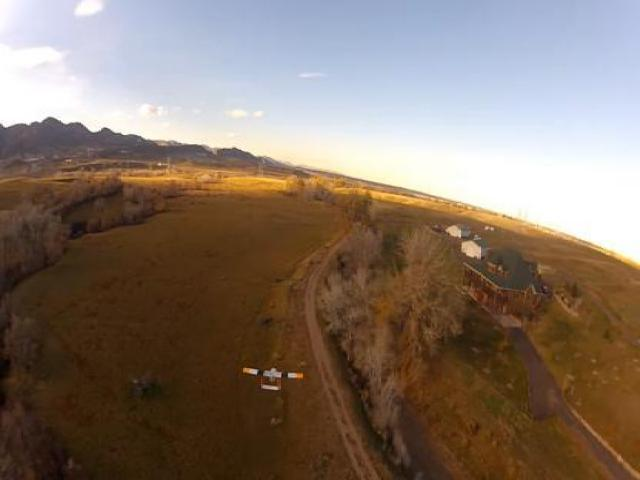uav: (242, 360, 304, 391)
